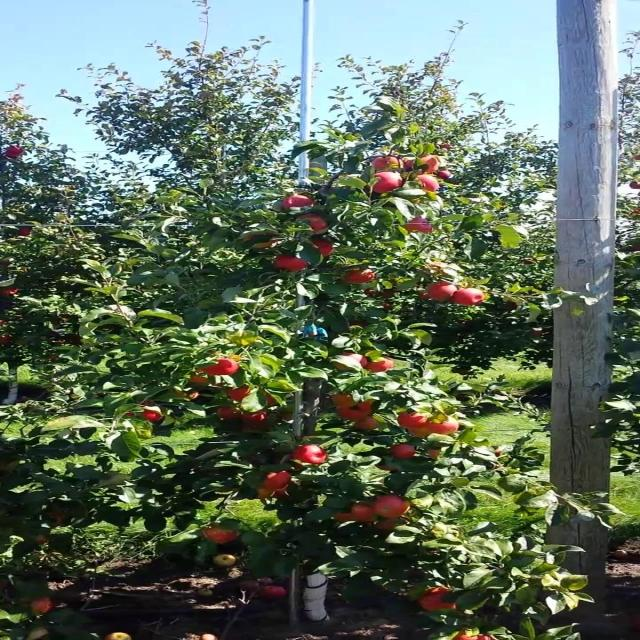apple: (419, 588, 457, 612), (333, 504, 377, 524), (376, 496, 412, 516), (426, 416, 462, 436), (376, 172, 405, 195), (454, 288, 487, 307), (333, 352, 366, 371), (362, 356, 398, 373), (340, 404, 377, 420), (205, 360, 242, 376), (404, 156, 441, 172), (298, 216, 329, 235), (291, 448, 327, 464), (205, 528, 240, 544), (397, 412, 432, 428), (426, 284, 457, 302), (404, 216, 434, 234), (276, 256, 308, 272), (248, 232, 277, 249), (390, 444, 420, 460), (262, 472, 292, 488), (284, 196, 318, 210), (376, 156, 404, 171), (433, 284, 457, 301), (355, 416, 382, 431), (227, 388, 252, 403), (419, 176, 441, 192), (312, 240, 334, 256), (419, 156, 441, 172), (348, 272, 377, 284), (241, 412, 270, 424), (212, 556, 240, 568), (406, 424, 434, 436), (35, 600, 55, 616), (454, 632, 491, 640), (49, 512, 68, 527), (220, 408, 242, 420), (141, 412, 164, 423), (404, 160, 427, 171), (191, 372, 212, 384), (376, 520, 398, 531), (412, 428, 434, 439), (426, 264, 448, 275), (376, 520, 398, 531), (255, 488, 274, 500), (262, 392, 277, 407), (335, 396, 356, 406), (426, 292, 446, 302), (6, 148, 23, 159), (376, 464, 398, 472), (177, 392, 199, 400), (426, 448, 441, 459), (433, 172, 453, 180), (20, 228, 36, 236), (35, 536, 50, 544), (276, 488, 288, 498), (6, 288, 21, 296)
